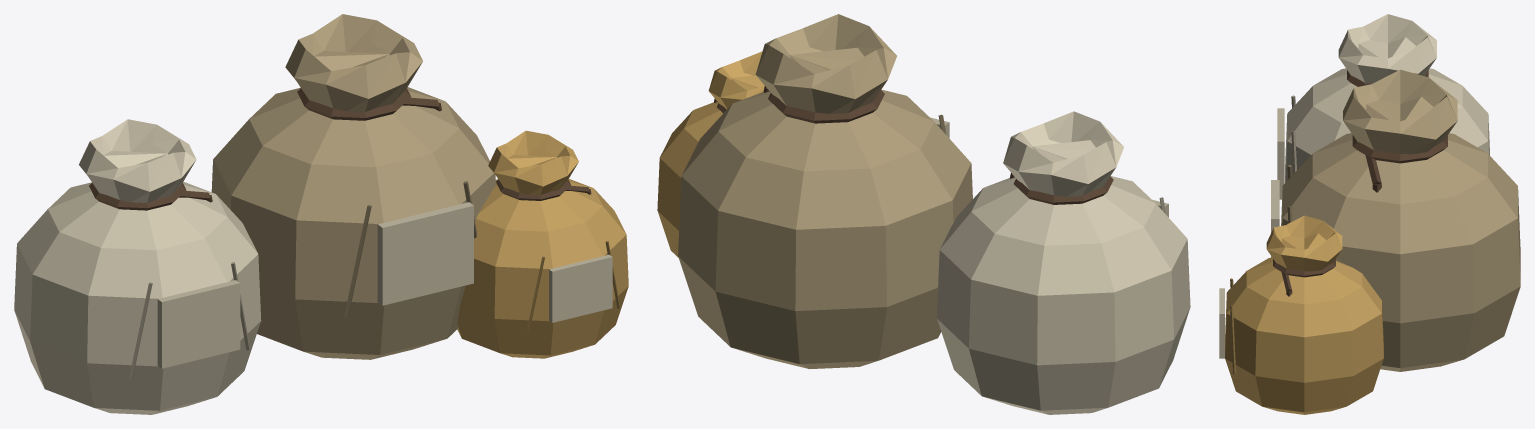
The model's file is grain_sacks.glb.
3 views of the same model, side by side, from view 1: azimuth 30°, elevation 25°; view 2: azimuth 150°, elevation 25°; view 3: azimuth 270°, elevation 25° (orthographic). The views are drawn at different scales.
Parts seen in each view (by area): view 1: geometry; view 2: geometry; view 3: geometry.
Boxes of the visible parts, box(x1,y1,x2,y2) form: geometry: box(14, 14, 628, 414); geometry: box(657, 14, 1190, 414); geometry: box(1219, 14, 1520, 414).
Size of the model in its own units: 1.3 by 0.6687 by 0.723.
